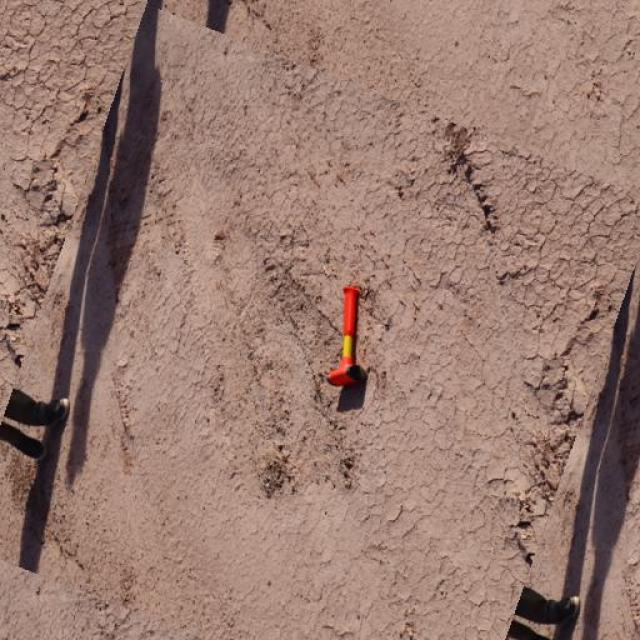mallet: (325, 284, 366, 386)
